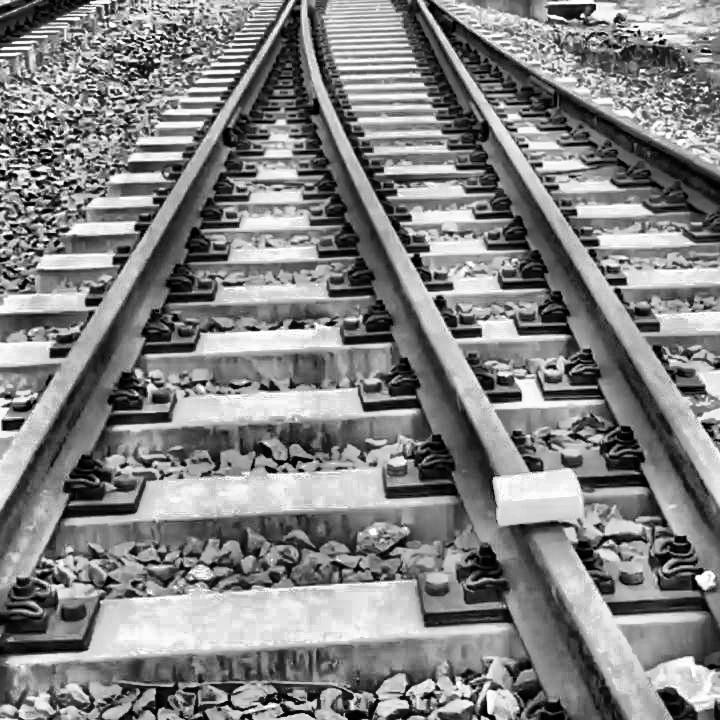Trash: (481, 447, 597, 544)
